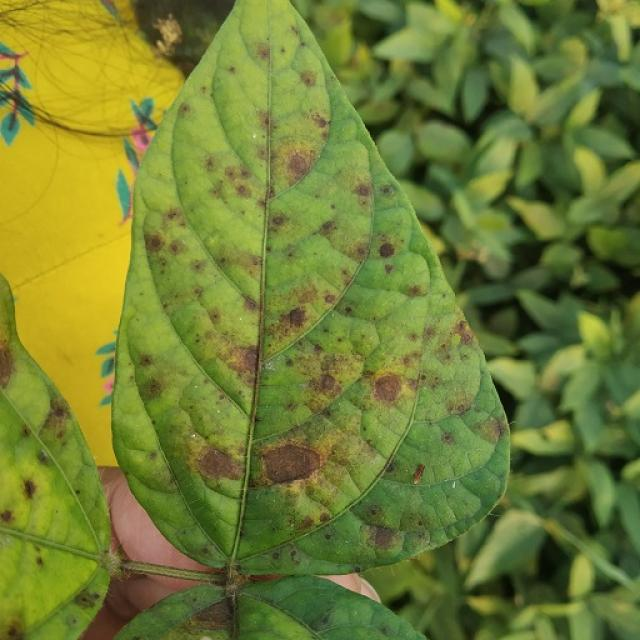Anthracnose: (260, 323, 361, 419), (254, 442, 338, 494), (259, 441, 321, 484), (218, 339, 264, 393), (196, 446, 243, 484), (39, 399, 73, 447), (192, 596, 232, 625), (373, 373, 403, 404), (284, 150, 313, 181), (263, 102, 274, 182), (98, 547, 123, 582), (370, 525, 399, 549), (221, 558, 243, 584), (0, 346, 14, 386), (285, 306, 308, 328), (318, 374, 339, 394), (144, 232, 165, 252), (76, 592, 96, 608), (378, 241, 396, 258), (255, 43, 271, 61), (23, 479, 37, 499), (300, 70, 316, 87), (36, 448, 51, 466), (412, 464, 425, 484), (6, 622, 21, 639), (271, 214, 287, 227), (0, 509, 14, 523), (441, 430, 455, 444), (319, 613, 332, 627), (66, 614, 79, 627), (35, 555, 44, 567), (272, 551, 280, 560), (324, 532, 332, 540)
Blackgram: (111, 0, 508, 575)
